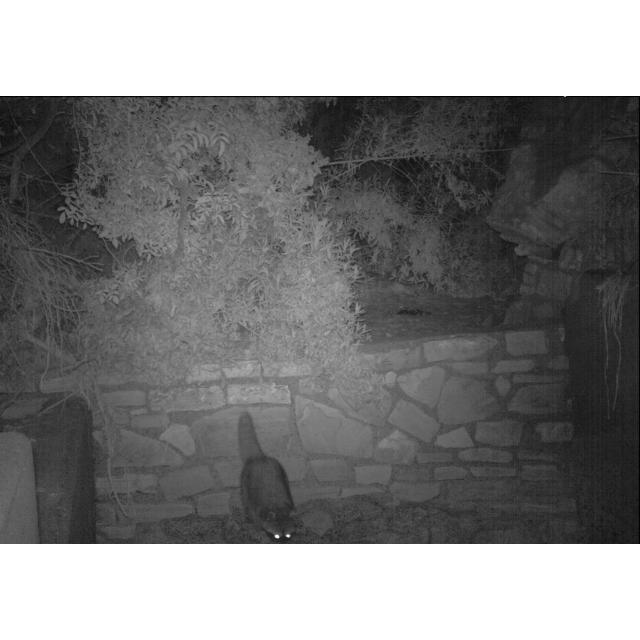animals: (236, 410, 298, 544)
